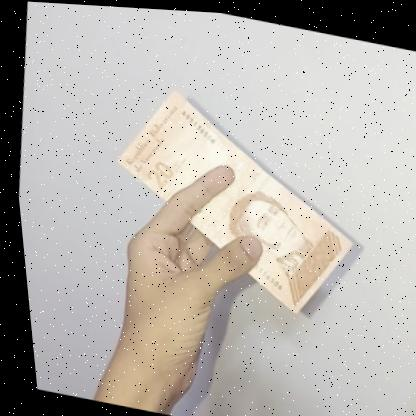twenty-front-vef: (88, 75, 372, 321)
